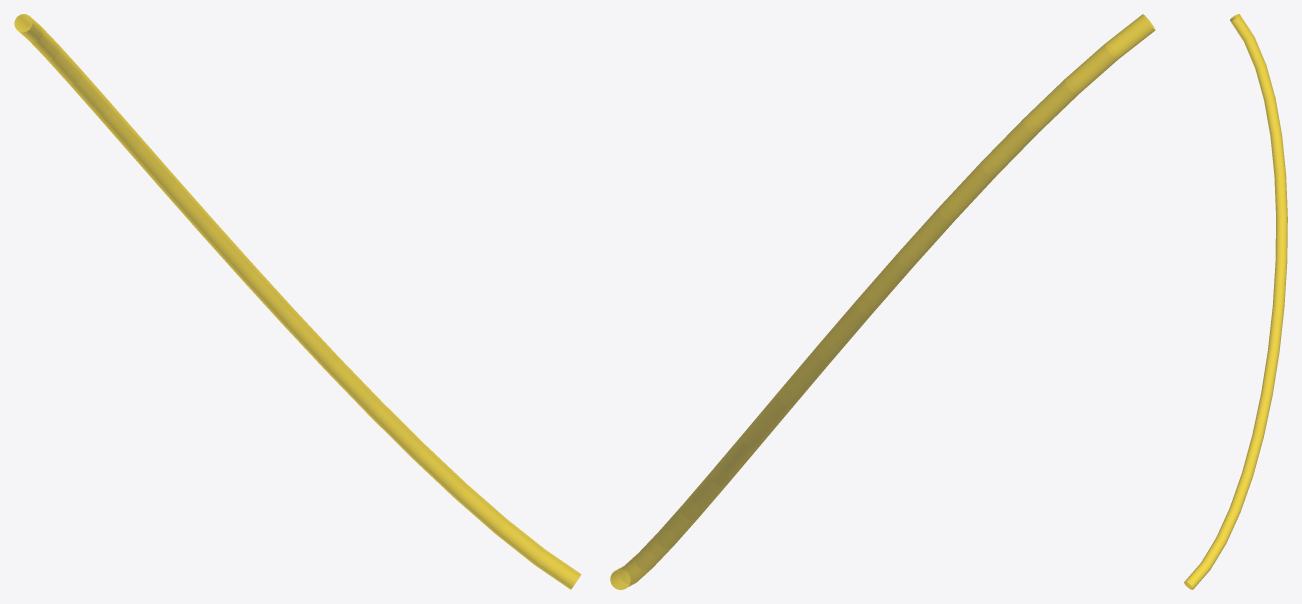
Rendered from Event_27938768_track_26.fbx.
The picture shows the model from 3 angles, left to right: view 1: azimuth 30°, elevation 25°; view 2: azimuth 150°, elevation 25°; view 3: azimuth 270°, elevation 25°; orthographic projection. The views are drawn at different scales.
Visible parts, largest first — view 1: Model; view 2: Model; view 3: Model.
Part boxes in pixels (x1,y1,x2,y2): Model: [14, 14, 581, 589]; Model: [610, 14, 1155, 589]; Model: [1184, 14, 1287, 589].
Bounding box in the file's own units: 1.29 × 1.57 × 0.3515.
